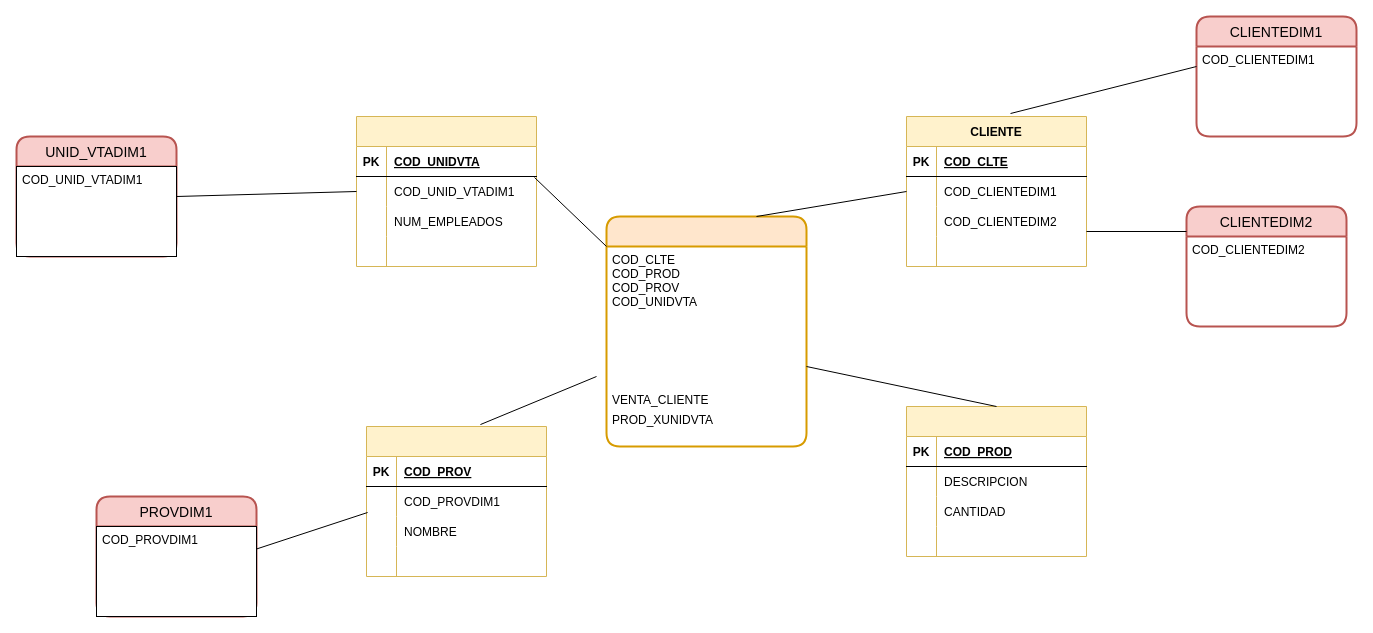
Some shapes in this 1373 by 633 pixel diagram are drawn without their labels. The shapes that lost their labels are listed below. From the top down, each one's box as (x1, y1, x2, y2) in pixels, then its label:
(356, 116, 536, 266): UNIDAD_VENTA
(605, 215, 807, 447): VENTAS
(366, 426, 546, 576): PROVEEDOR
(906, 406, 1086, 556): PRODUCTO
